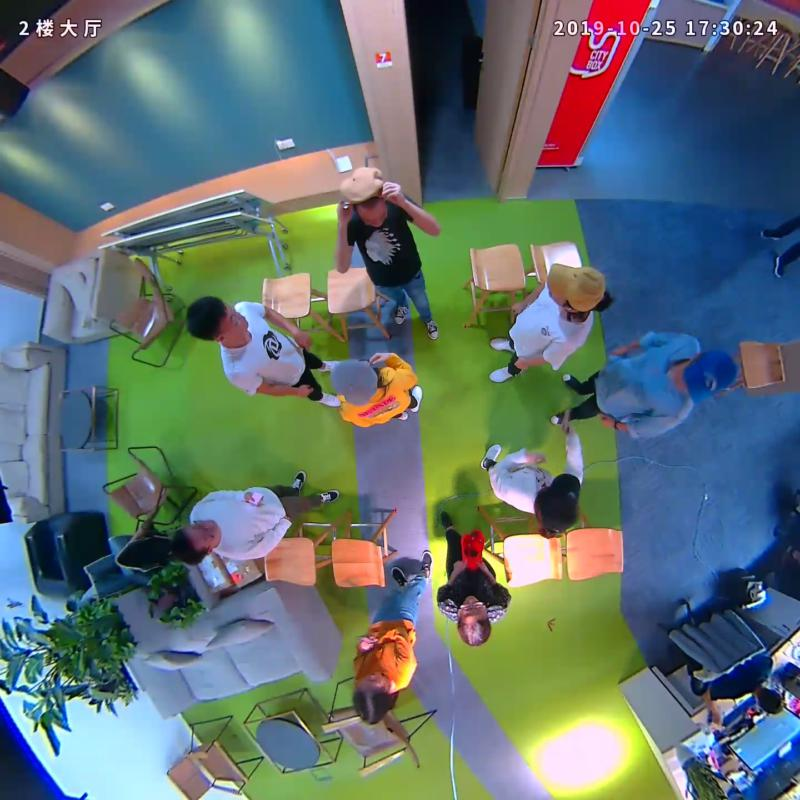head: (670, 350, 737, 405), (338, 165, 388, 229), (546, 261, 606, 313), (534, 473, 582, 534), (185, 296, 249, 341), (331, 358, 379, 406), (171, 519, 220, 566), (352, 668, 392, 725), (455, 595, 492, 647)
